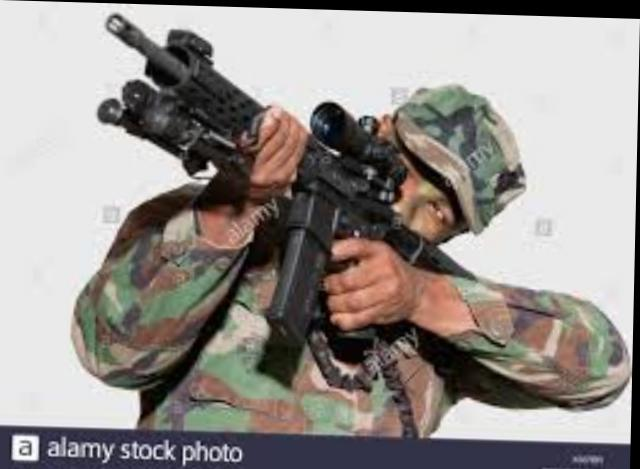other: (96, 91, 591, 430)
